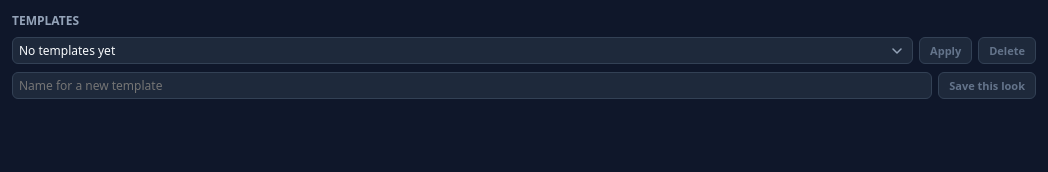
it: Templates › TemplatePanel shows why a template could not be saved
In the field with test id "template-name": (472, 86) [12,72,932,99], type "Bad"
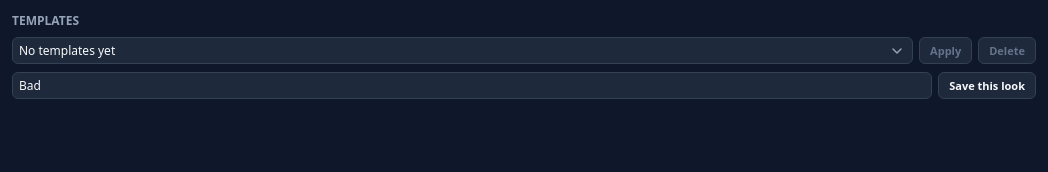
Click the button with test id "template-save": (987, 86) [938,72,1036,99]
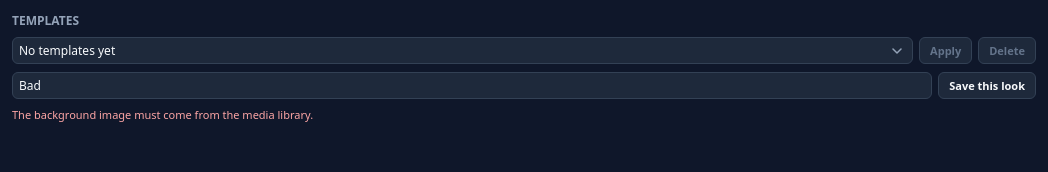
expect the message with test id "template-error" shows "media library": met, box [12,107,313,122]
